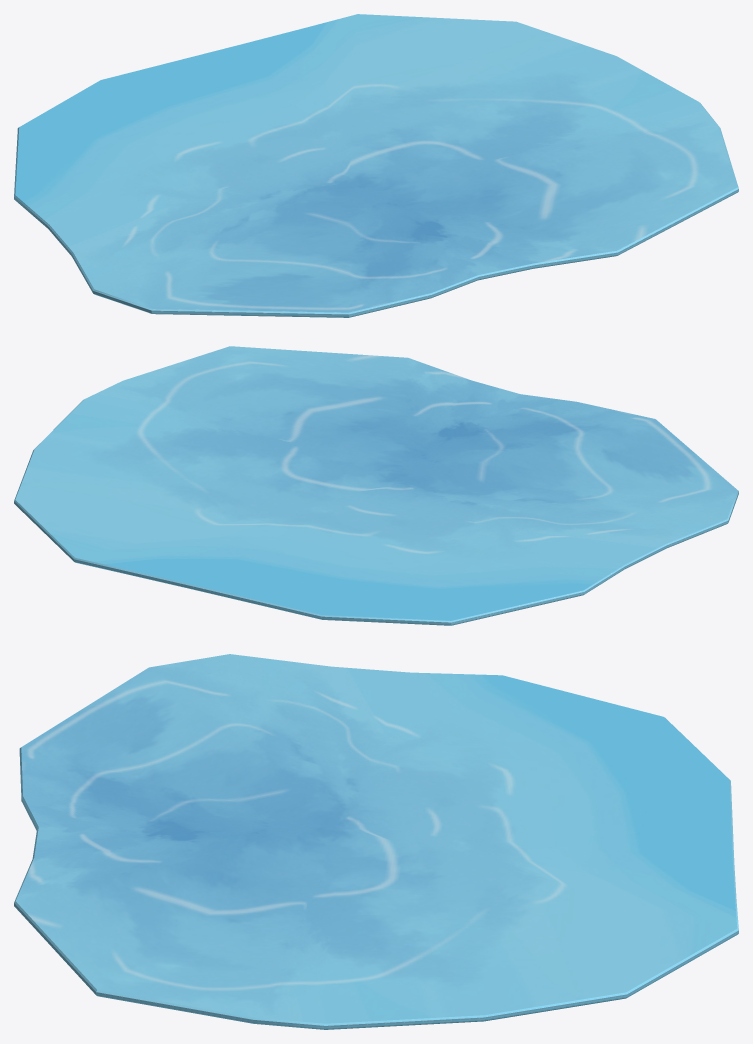
Rendered from Water)1.fbx.
3 renders of one model, top to bottom at view 1: azimuth 30°, elevation 25°; view 2: azimuth 150°, elevation 25°; view 3: azimuth 270°, elevation 25°, orthographic. The views are drawn at different scales.
Visible parts, largest first — view 1: pCylinder2; view 2: pCylinder2; view 3: pCylinder2.
Part boxes in pixels (x1,y1,x2,y2): pCylinder2: (14, 14, 738, 317); pCylinder2: (14, 346, 738, 625); pCylinder2: (14, 654, 738, 1029).
Size of the model in its own units: 7.2 by 0.0702 by 5.94.
Materials: 1 (1 with a texture image).
